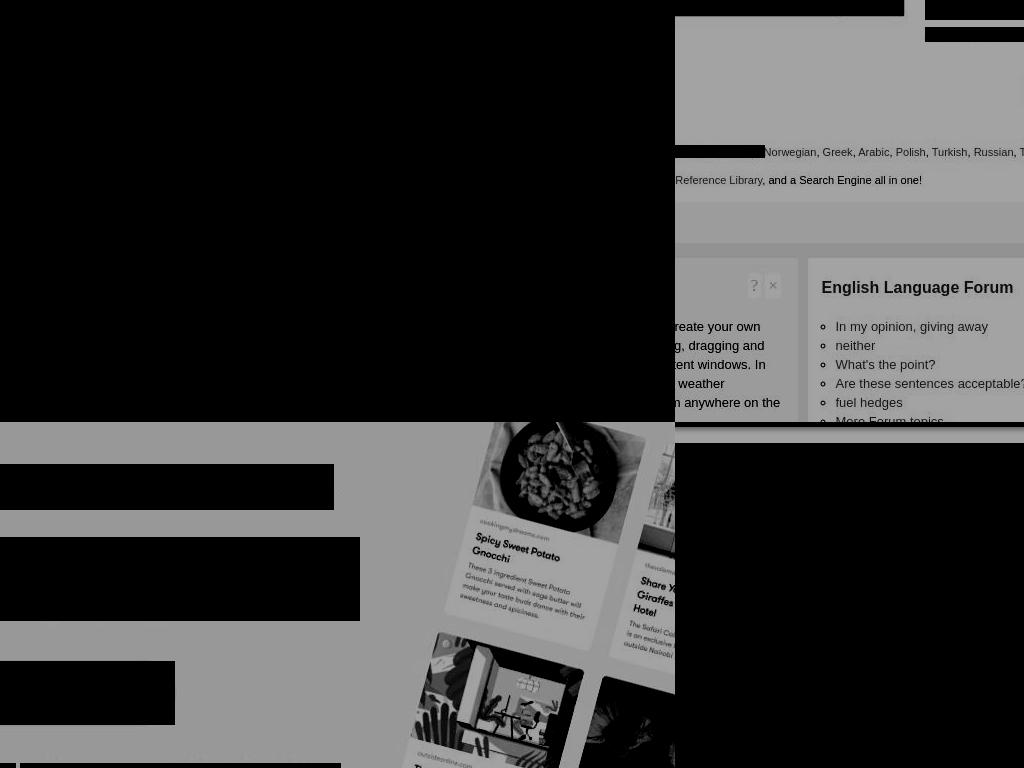button: (447, 345, 675, 422), (0, 661, 175, 725), (529, 7, 675, 63), (529, 7, 675, 63), (803, 0, 830, 7)
field: (814, 587, 1024, 639), (675, 0, 904, 16), (840, 0, 904, 16)
heading: (675, 494, 1024, 545), (0, 305, 414, 329), (675, 754, 1024, 768), (821, 278, 1014, 297), (762, 173, 923, 186), (675, 173, 762, 186), (763, 145, 816, 158), (675, 145, 722, 158), (973, 145, 1014, 158), (931, 145, 967, 158), (858, 145, 890, 158), (822, 145, 853, 158), (895, 145, 926, 158), (728, 145, 757, 158), (722, 145, 730, 158), (757, 145, 765, 158), (816, 145, 824, 158), (889, 145, 897, 158), (967, 145, 975, 158), (925, 145, 932, 158), (1013, 145, 1020, 158), (852, 145, 858, 158)
image: (0, 0, 675, 422), (675, 443, 1024, 768)
link: (835, 375, 1024, 391), (835, 318, 988, 334), (835, 356, 936, 372), (835, 394, 903, 410), (835, 413, 955, 422), (835, 337, 876, 353), (235, 763, 341, 768), (77, 763, 166, 768), (166, 763, 235, 768), (20, 763, 77, 768), (768, 275, 779, 295), (750, 275, 758, 295)
text: (0, 186, 363, 386), (0, 537, 360, 621), (456, 273, 675, 350), (0, 382, 405, 422), (0, 360, 376, 401), (0, 337, 381, 377), (675, 316, 784, 422), (141, 464, 334, 510), (0, 154, 363, 176), (0, 464, 141, 510), (544, 11, 675, 58), (544, 11, 675, 58), (437, 238, 675, 260), (437, 364, 675, 386), (0, 382, 245, 400), (8, 682, 149, 704), (245, 383, 388, 401), (544, 11, 633, 32), (544, 11, 633, 32), (925, 27, 1024, 42)
